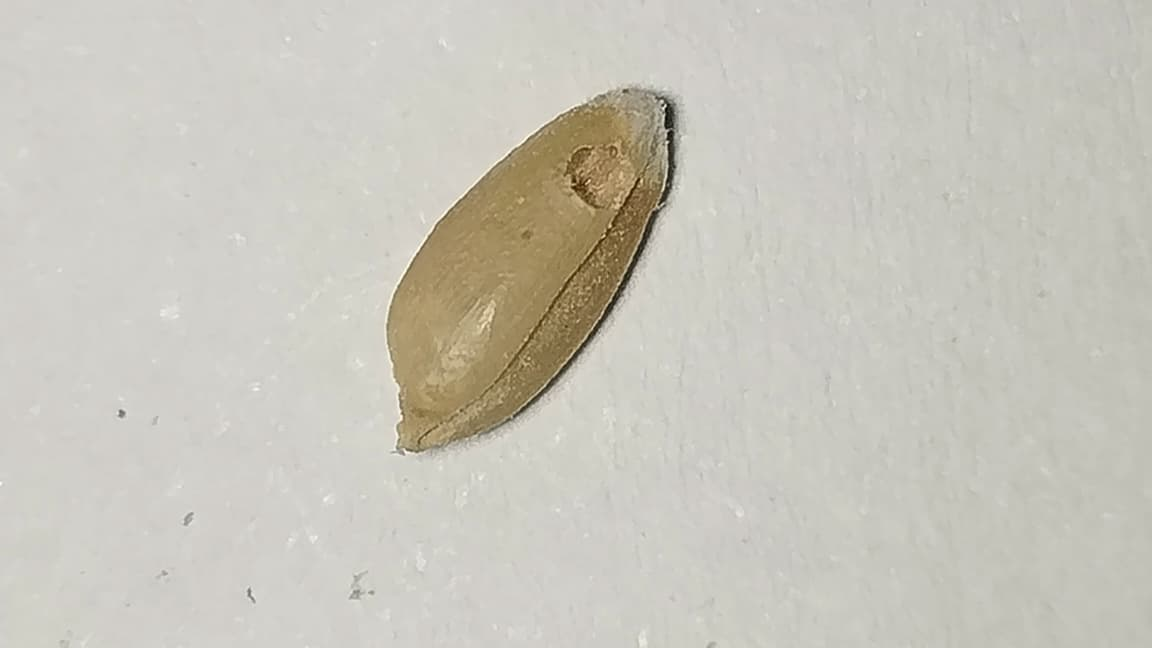damage: (387, 87, 675, 450)
insectdamage: (549, 140, 638, 236)
